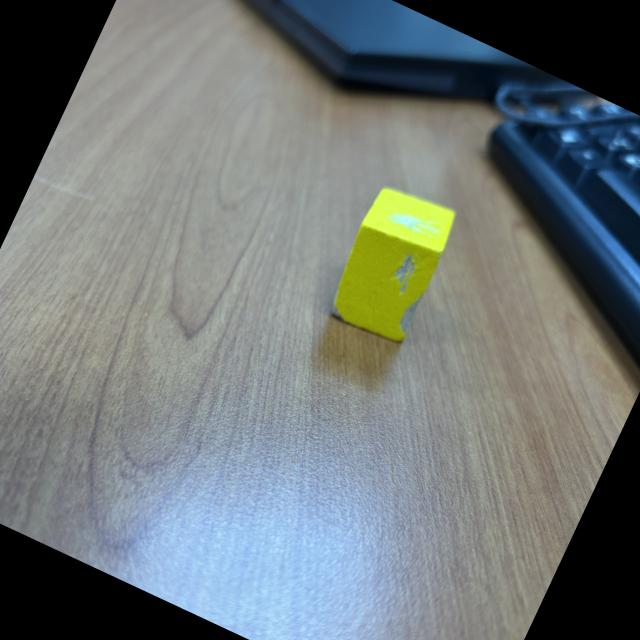broken: (320, 178, 463, 349)
